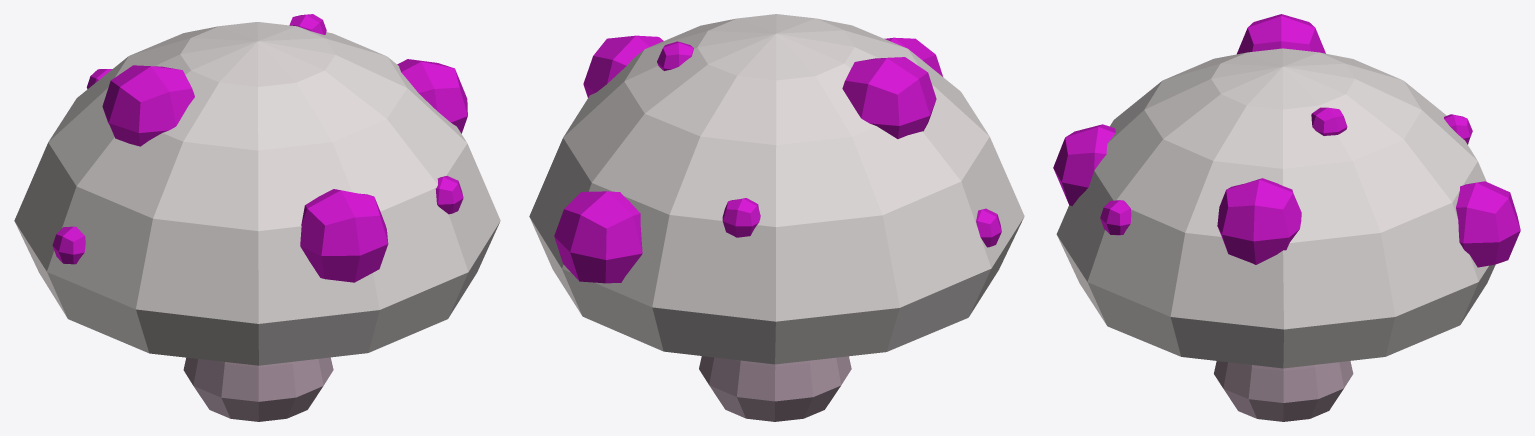
The model's file is cogumelo interativo.fbx.
3 views of the same model, side by side, from view 1: azimuth 30°, elevation 25°; view 2: azimuth 150°, elevation 25°; view 3: azimuth 270°, elevation 25° (orthographic). The views are drawn at different scales.
Parts seen in each view (by area): view 1: Circle, Cube; view 2: Circle, Cube; view 3: Circle, Cube.
Boxes of the visible parts, left/top/right/bottom form: Circle: left=14, top=22, right=500, bottom=421; Cube: left=52, top=14, right=467, bottom=282; Circle: left=529, top=14, right=1024, bottom=421; Cube: left=554, top=35, right=1001, bottom=283; Circle: left=1056, top=48, right=1495, bottom=421; Cube: left=1053, top=14, right=1520, bottom=267.
Bounding box in the file's own units: 381 × 311 × 394.
